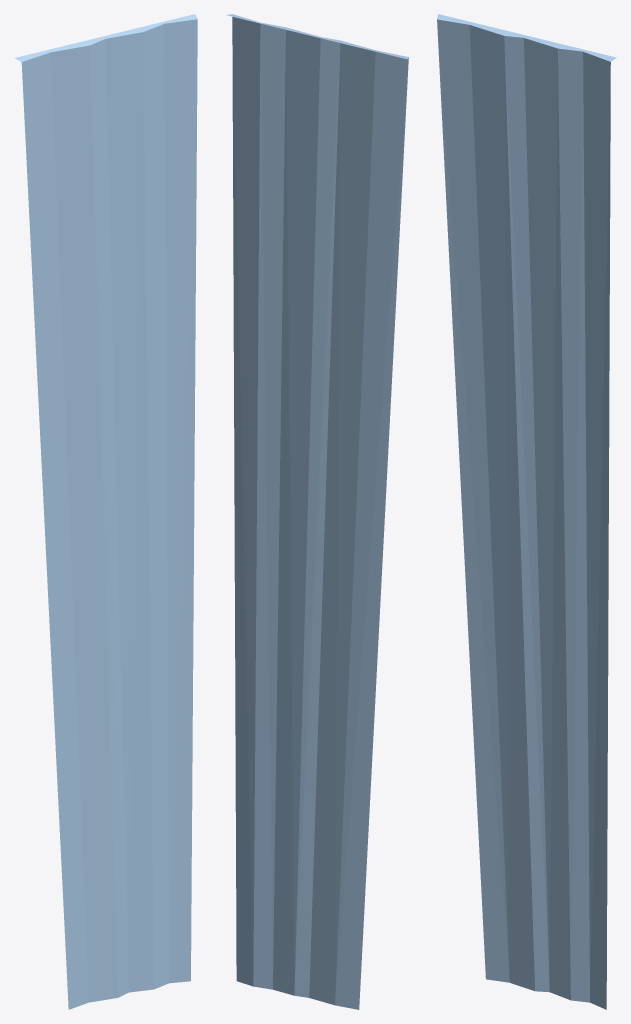
File: Waterfall_Angled_Large_01.fbx
3 renders of one model, left to right at view 1: azimuth 30°, elevation 25°; view 2: azimuth 150°, elevation 25°; view 3: azimuth 330°, elevation 25°, orthographic.
Parts seen in each view (by area): view 1: Waterfall_Angled_Large_01; view 2: Waterfall_Angled_Large_01; view 3: Waterfall_Angled_Large_01.
Part boxes in pixels (x1,y1,x2,y2): Waterfall_Angled_Large_01: (14,14,197,1009); Waterfall_Angled_Large_01: (226,14,408,1009); Waterfall_Angled_Large_01: (437,14,616,1009).
Bounding box in the file's own units: 62.99 × 321 × 2.68.
